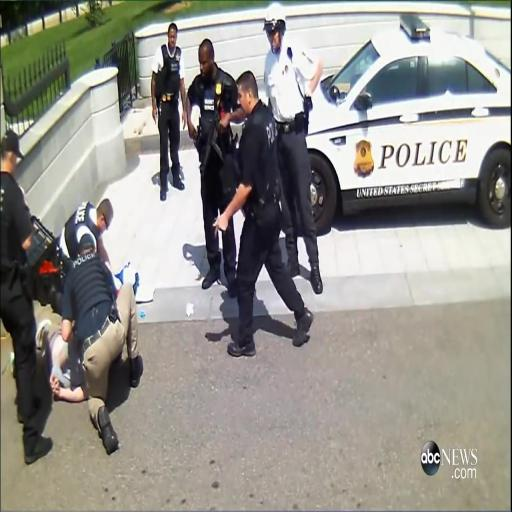Guns: (201, 80, 227, 176)
